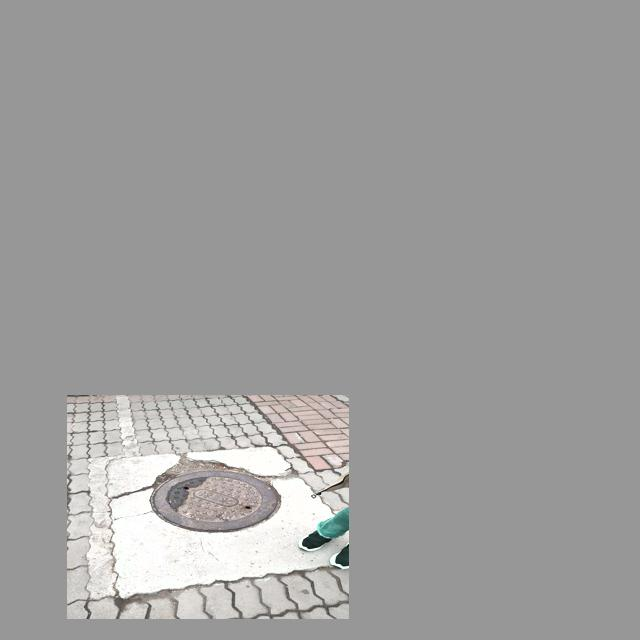circle: (117, 455, 307, 542)
